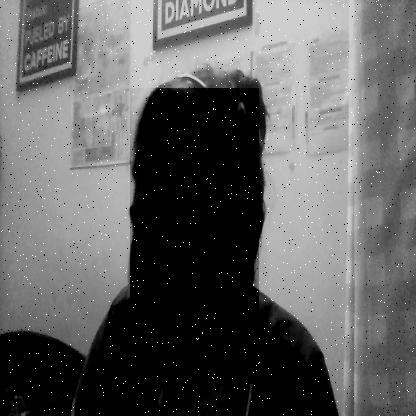Distracted: (130, 88, 259, 384)
